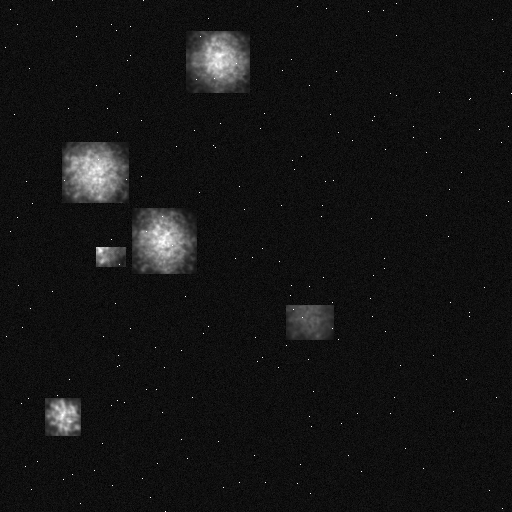lam1: (45, 398, 80, 435), (96, 247, 125, 266)
lam3: (132, 208, 196, 273), (62, 142, 128, 202), (186, 31, 249, 92), (286, 305, 333, 339)
